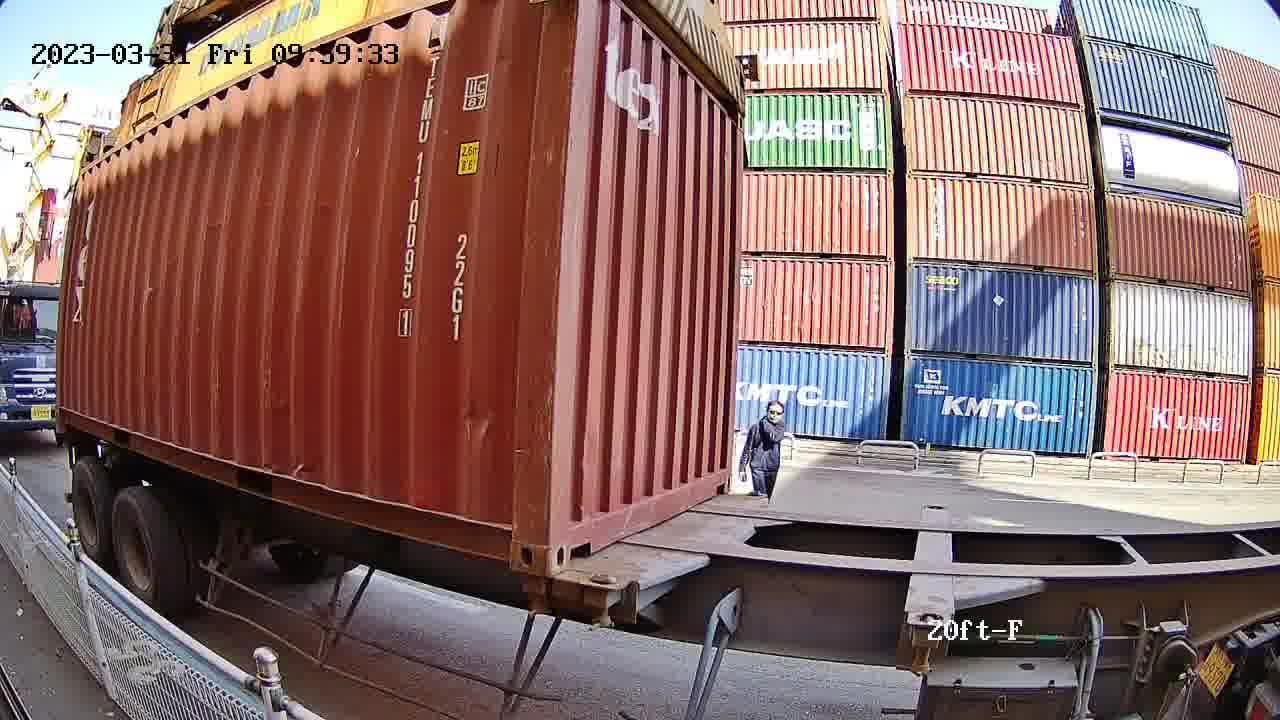Chassis: (585, 493, 765, 593)
Cone: (585, 572, 623, 632), (516, 573, 549, 618)
Hole_L: (547, 499, 600, 578)
Hole_R: (478, 502, 548, 577), (705, 456, 732, 499)
Tire: (110, 491, 162, 605), (70, 465, 105, 558)
